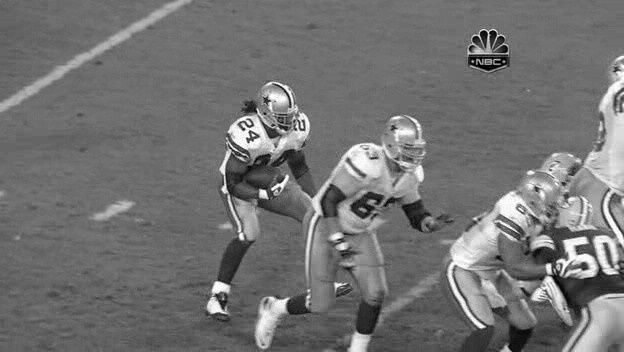person: (262, 84, 298, 130), (261, 84, 297, 130), (263, 84, 299, 130), (262, 83, 298, 129), (262, 85, 298, 131)
target_negative: (195, 180, 421, 264), (322, 226, 421, 349), (541, 32, 561, 309), (500, 122, 525, 334), (166, 87, 198, 165), (587, 283, 617, 287)
